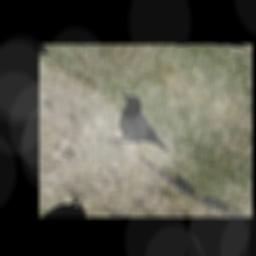Crow: (93, 88, 187, 165)
